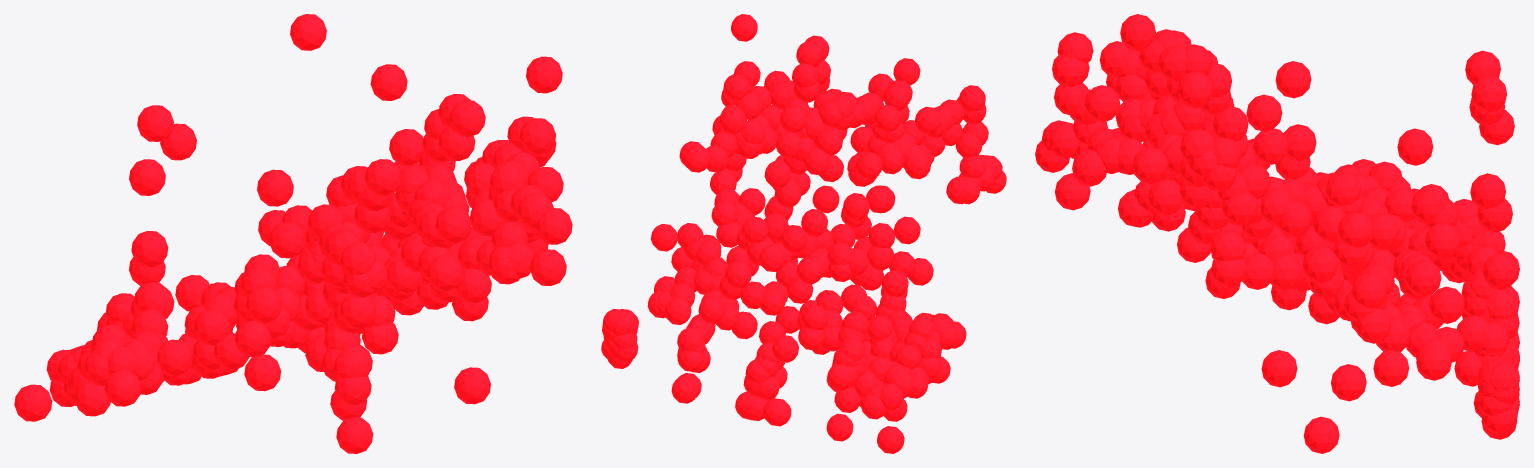
Rendered from data_crystal.glb.
The picture shows the model from 3 angles, left to right: view 1: azimuth 30°, elevation 25°; view 2: azimuth 150°, elevation 25°; view 3: azimuth 270°, elevation 25°; orthographic projection. The views are drawn at different scales.
Visible parts, largest first — view 1: Mesh_0, Mesh_1; view 2: Mesh_0, Mesh_1; view 3: Mesh_0, Mesh_1.
Part boxes in pixels (bbox=[...]): Mesh_0: bbox=[14, 14, 490, 453]; Mesh_1: bbox=[370, 56, 572, 404]; Mesh_0: bbox=[671, 35, 1006, 453]; Mesh_1: bbox=[601, 14, 841, 368]; Mesh_0: bbox=[1035, 14, 1519, 417]; Mesh_1: bbox=[1055, 71, 1519, 453].
Size of the model in its own units: 7.81 by 7.14 by 8.19.
